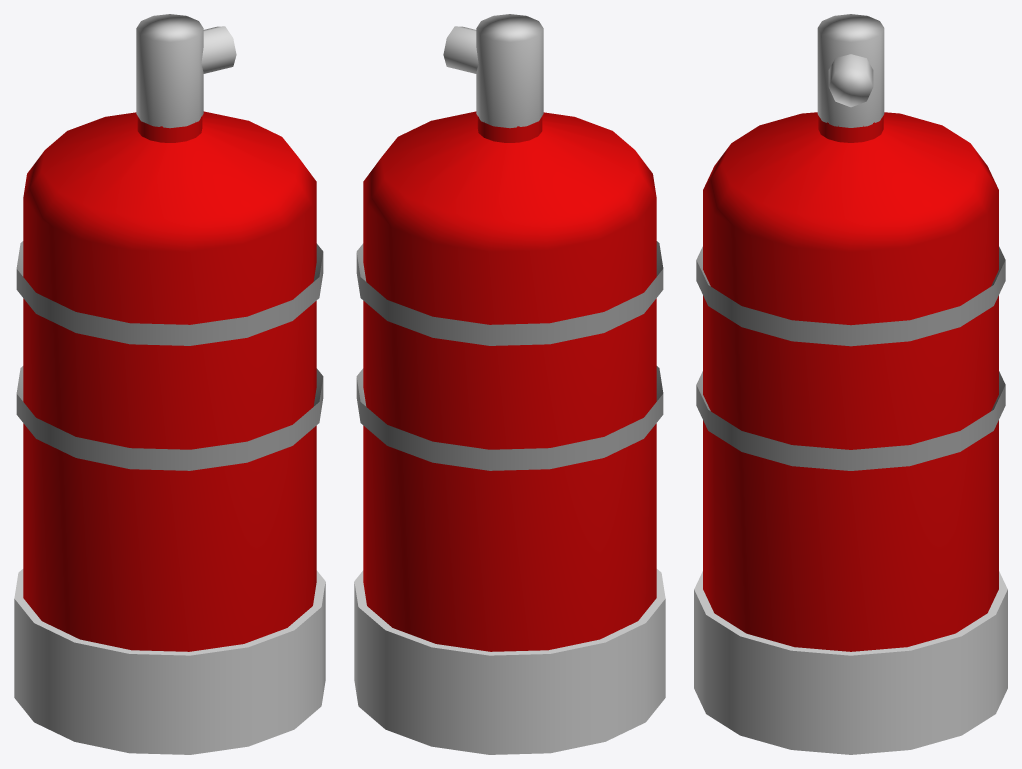
The model's file is extintor.fbx.
3 renders of one model, left to right at view 1: azimuth 30°, elevation 25°; view 2: azimuth 150°, elevation 25°; view 3: azimuth 270°, elevation 25°, orthographic.
Parts seen in each view (by area): view 1: pCylinder1, pCylinder2, pCylinder3, pTorus1, pTorus2, pCylinder4; view 2: pCylinder1, pCylinder2, pCylinder3, pTorus1, pTorus2, pCylinder4; view 3: pCylinder1, pCylinder2, pTorus1, pTorus2, pCylinder3, pCylinder4.
Part boxes in pixels (x1,y1,x2,y2): pCylinder1: [23, 111, 316, 651]; pCylinder2: [14, 569, 325, 754]; pCylinder3: [136, 14, 203, 128]; pTorus1: [16, 241, 323, 345]; pTorus2: [16, 366, 323, 470]; pCylinder4: [201, 26, 236, 73]; pCylinder1: [363, 111, 656, 651]; pCylinder2: [354, 569, 665, 754]; pCylinder3: [476, 14, 543, 128]; pTorus1: [356, 241, 663, 345]; pTorus2: [356, 366, 663, 470]; pCylinder4: [443, 26, 478, 73]; pCylinder1: [703, 112, 998, 651]; pCylinder2: [694, 571, 1007, 754]; pTorus1: [696, 246, 1005, 346]; pTorus2: [696, 371, 1005, 470]; pCylinder3: [817, 14, 884, 127]; pCylinder4: [828, 54, 873, 107].
Bounding box in the file's own units: 35 × 81.32 × 35.
